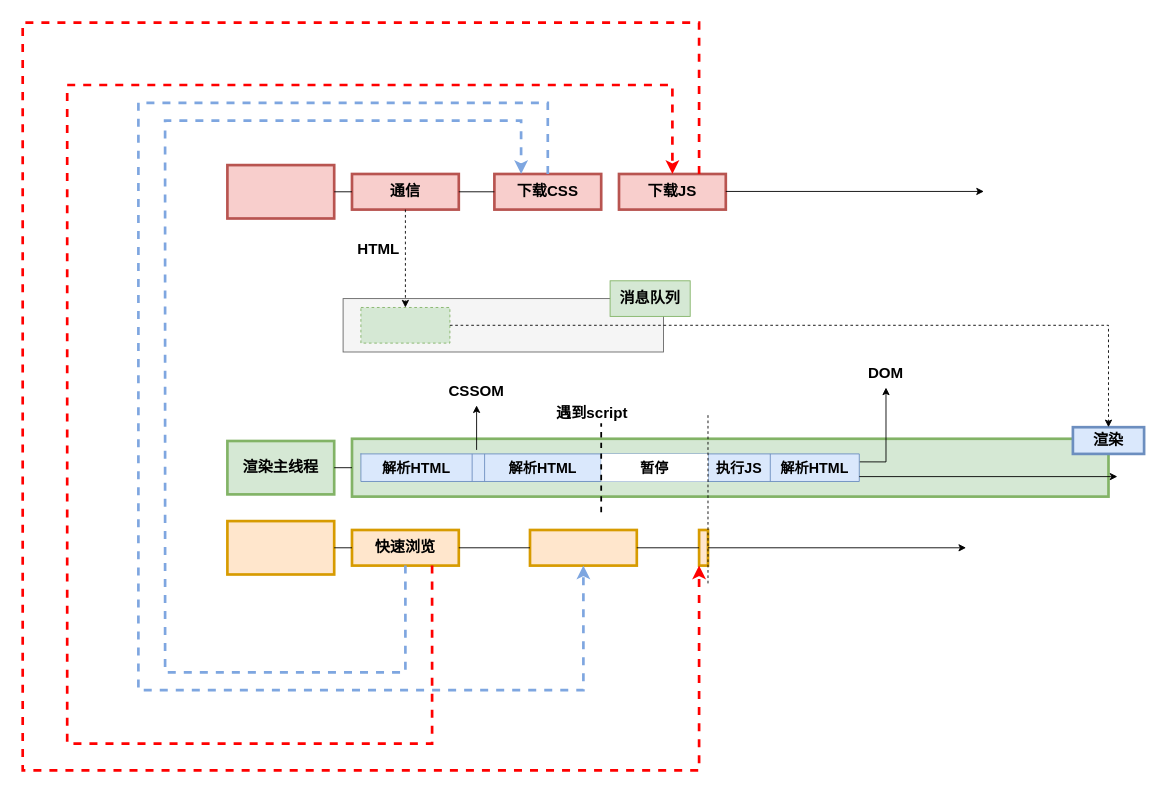
Image size: 1161x794. Some labels were removed from this diagram. Each missing label, with the centre of its shape:
"渲染任务" goes at point (405, 325).
"网络线程" goes at point (280, 191).
"解析" goes at point (583, 547).
"预解析线程" goes at point (280, 547).
